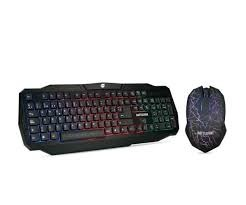keyboard: (17, 78, 182, 157)
mouse: (187, 80, 230, 155)
